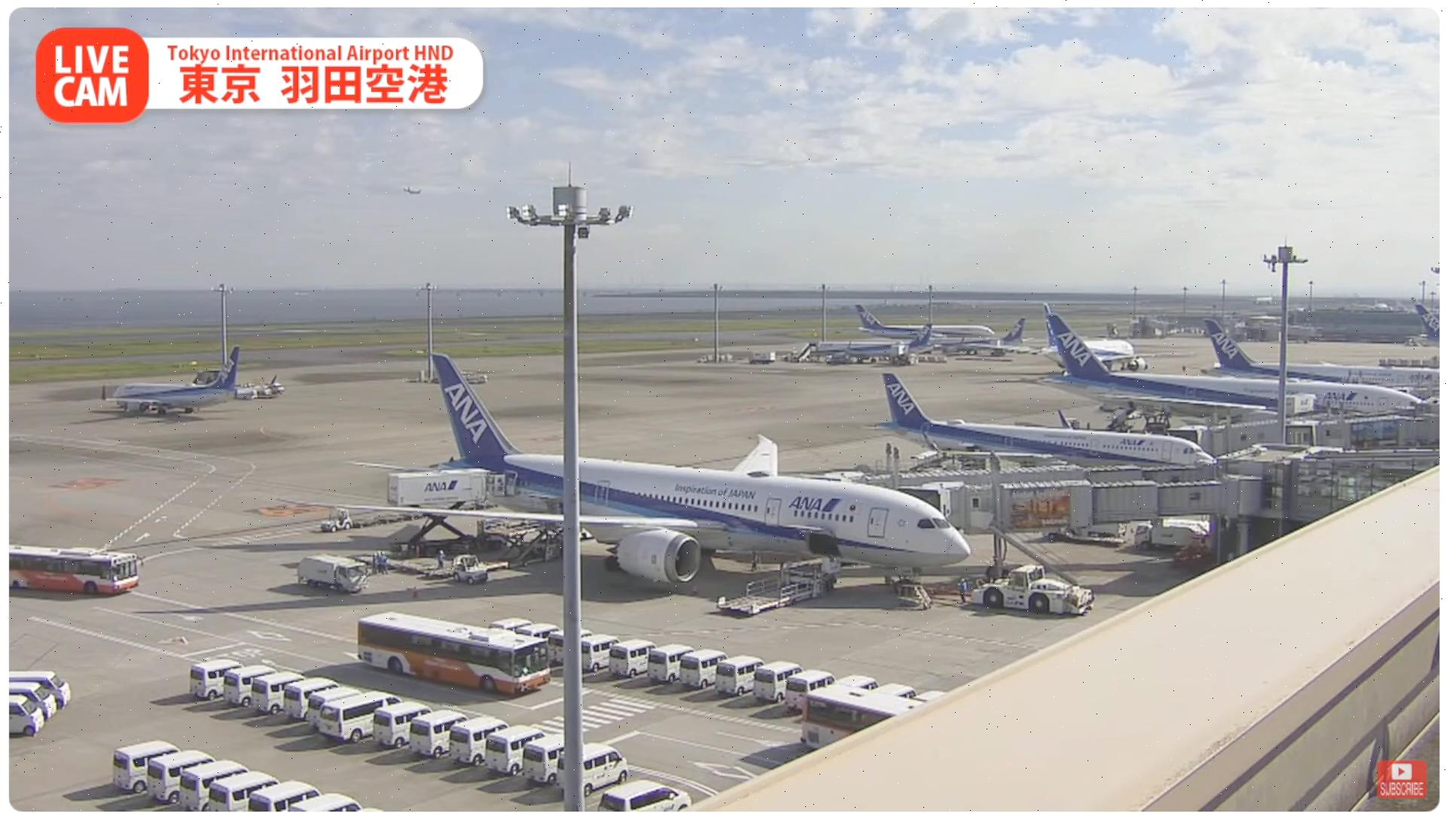APS: (969, 564, 1106, 619)
Aerobridge: (845, 460, 1217, 536), (991, 476, 1264, 540)
Airplane: (330, 354, 973, 599)
Baggage truck: (290, 547, 377, 598)
Catering: (387, 463, 496, 552)
Dolly: (358, 551, 452, 579), (352, 510, 426, 528)
JCPL: (716, 556, 843, 617), (450, 522, 565, 575)
Tractor: (451, 553, 490, 585), (317, 508, 355, 532)
Window: (1290, 456, 1440, 523)
